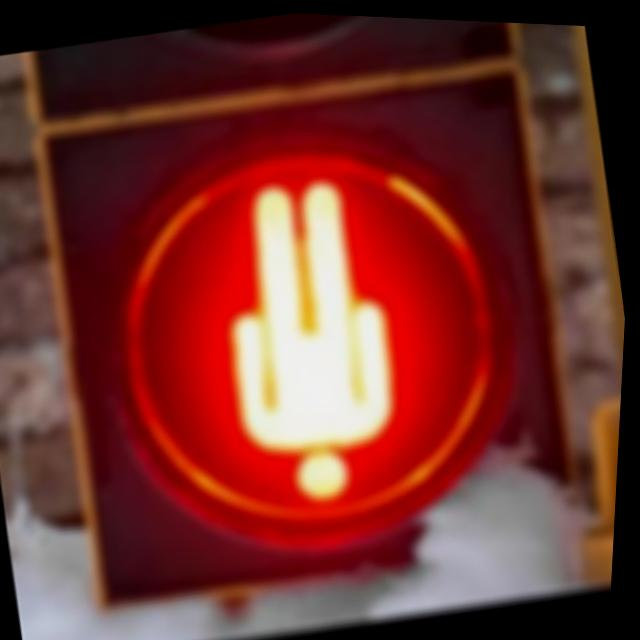red_light: (49, 71, 571, 587)
